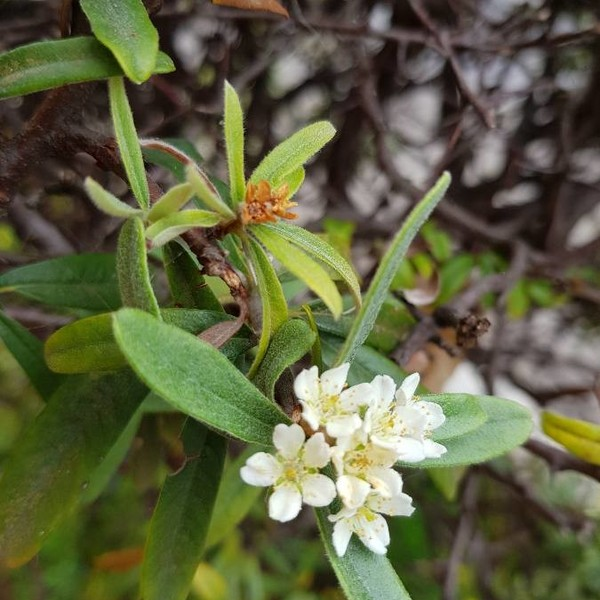obstacle: (96, 69, 472, 561)
